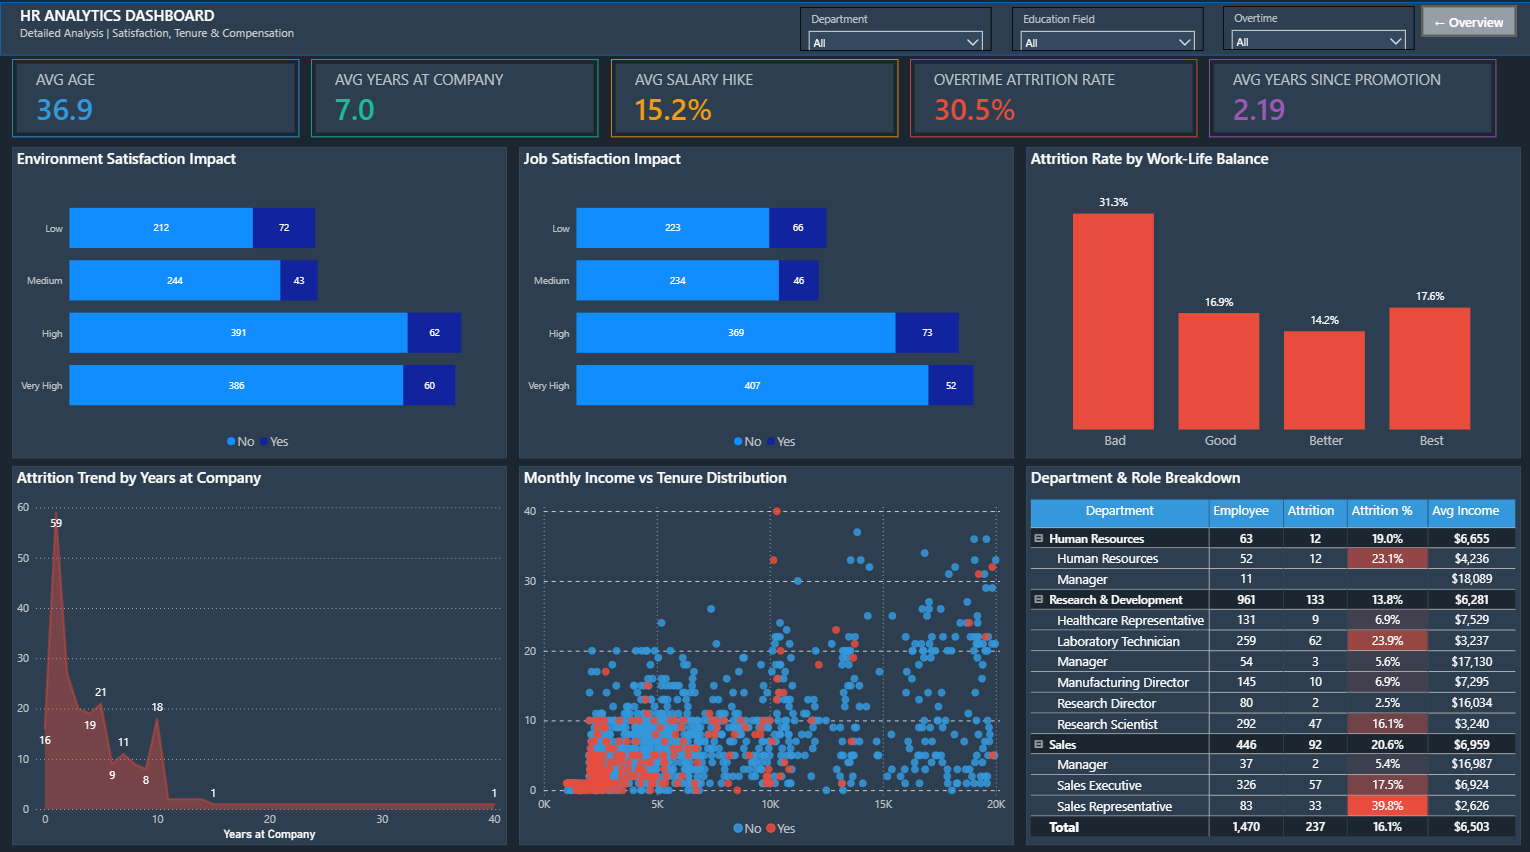

The page's visual inventory and layout, read from the dashboard file:
{"tool":"powerbi","page":{"name":"Detailed Analysis","canvas":[1920,1080],"ordinal":1},"visuals":[{"type":"shape","box":[0,8.8,1920,67],"z":0},{"type":"textbox","box":[20,8,550,55],"z":4000},{"type":"cardVisual","fields":{"Data":["_measures.avg_age"]},"box":[15,80,360,98],"z":5000},{"type":"cardVisual","fields":{"Data":["_measures.avg_years_at_company"]},"box":[390,80,360,98],"z":6000},{"type":"cardVisual","fields":{"Data":["_measures.avg_salary_hike"]},"box":[765,80,360,98],"z":7000},{"type":"cardVisual","fields":{"Data":["_measures.overtime_attrition_rate"]},"box":[1140,80,360,98],"z":8000},{"type":"cardVisual","fields":{"Data":["_measures.avg_years_since_promotion"]},"box":[1515,80,360,98],"z":9000},{"type":"barChart","title":"Environment Satisfaction Impact","fields":{"Category":["dim_env_satisfaction.satisfaction_level"],"Series":["fact_HR.attrition"],"Y":["_measures.total_employees"]},"box":[15,190,620,390],"z":10000},{"type":"barChart","title":"Job Satisfaction Impact","fields":{"Series":["fact_HR.attrition"],"Y":["_measures.total_employees"],"Category":["dim_job_satisfaction.satisfaction_level"]},"box":[650,190,620,390],"z":11000},{"type":"clusteredColumnChart","title":"Attrition Rate by Work-Life Balance","fields":{"Category":["dim_work_life_balance.balance_level"],"Y":["_measures.attrition_rate"]},"box":[1285,190,620,390],"z":12000},{"type":"areaChart","title":"Attrition Trend by Years at Company","fields":{"Category":["fact_HR.years_at_company"],"Y":["_measures.attrition_count"]},"box":[15,590,620,475],"z":13000},{"type":"scatterChart","title":"Monthly Income vs Tenure Distribution","fields":{"X":["Sum(fact_HR.monthly_income)"],"Y":["Sum(fact_HR.years_at_company)"],"Category":["dim_employee.employee_no"],"Series":["fact_HR.attrition"]},"box":[650,590,620,475],"z":14000},{"type":"pivotTable","title":"Department & Role Breakdown","fields":{"Rows":["dim_job.department","dim_job.job_role"],"Values":["_measures.total_employees","_measures.attrition_count","_measures.attrition_rate","_measures.avg_monthly_income"]},"box":[1285,590,620,475],"z":15000},{"type":"actionButton","box":[1780,12,120,40],"z":15001},{"type":"slicer","fields":{"Values":["dim_job.department"]},"box":[1002.3,14.6,240,55],"z":15002},{"type":"slicer","fields":{"Values":["dim_employee.education_field"]},"box":[1267.8,14.6,240,55],"z":15003},{"type":"slicer","fields":{"Values":["dim_employee.over_time"]},"box":[1532.5,14,240,55],"z":15004}]}

Visuals, with their boxes in screenshot pixels (x1, y1, x2, y2), scaled from the page's 1920x1080 canvas onto the 1530x852 screenshot:
shape: {"left": 0, "top": 7, "right": 1529, "bottom": 60}
textbox: {"left": 16, "top": 6, "right": 454, "bottom": 50}
cardVisual - _measures.avg_age: {"left": 12, "top": 63, "right": 299, "bottom": 140}
cardVisual - _measures.avg_years_at_company: {"left": 311, "top": 63, "right": 598, "bottom": 140}
cardVisual - _measures.avg_salary_hike: {"left": 610, "top": 63, "right": 896, "bottom": 140}
cardVisual - _measures.overtime_attrition_rate: {"left": 908, "top": 63, "right": 1195, "bottom": 140}
cardVisual - _measures.avg_years_since_promotion: {"left": 1207, "top": 63, "right": 1494, "bottom": 140}
"Environment Satisfaction Impact" barChart: {"left": 12, "top": 150, "right": 506, "bottom": 458}
"Job Satisfaction Impact" barChart: {"left": 518, "top": 150, "right": 1012, "bottom": 458}
"Attrition Rate by Work-Life Balance" clusteredColumnChart: {"left": 1024, "top": 150, "right": 1518, "bottom": 458}
"Attrition Trend by Years at Company" areaChart: {"left": 12, "top": 465, "right": 506, "bottom": 840}
"Monthly Income vs Tenure Distribution" scatterChart: {"left": 518, "top": 465, "right": 1012, "bottom": 840}
"Department & Role Breakdown" pivotTable: {"left": 1024, "top": 465, "right": 1518, "bottom": 840}
actionButton: {"left": 1418, "top": 9, "right": 1514, "bottom": 41}
slicer - dim_job.department: {"left": 799, "top": 12, "right": 990, "bottom": 55}
slicer - dim_employee.education_field: {"left": 1010, "top": 12, "right": 1202, "bottom": 55}
slicer - dim_employee.over_time: {"left": 1221, "top": 11, "right": 1412, "bottom": 54}
